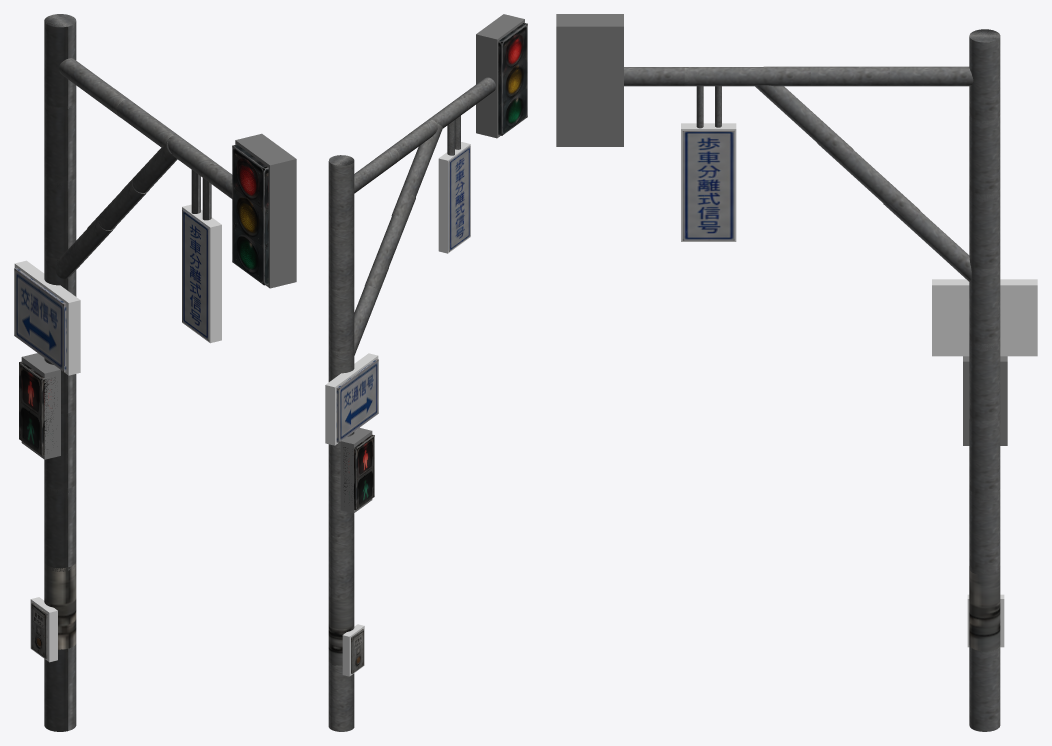
File: trafficlightfinal.gltf
3 views of the same model, side by side, from view 1: azimuth 30°, elevation 25°; view 2: azimuth 150°, elevation 25°; view 3: azimuth 270°, elevation 25° (orthographic). The views are drawn at different scales.
Parts seen in each view (by area): view 1: Cylinder (×16), Cube (×10); view 2: Cylinder (×16), Cube (×10); view 3: Cylinder (×16), Cube (×5).
Boxes of the visible parts, left/top/right/bottom form: Cylinder (×16): left=44, top=14, right=232, bottom=731; Cube (×10): left=14, top=133, right=296, bottom=662; Cylinder (×16): left=328, top=77, right=495, bottom=731; Cube (×10): left=325, top=14, right=527, bottom=676; Cylinder (×16): left=624, top=29, right=1000, bottom=731; Cube (×5): left=556, top=14, right=1037, bottom=445.
Size of the model in its own units: 0.2565 by 3.77 by 2.33.
Materials: 28 (23 with a texture image).
